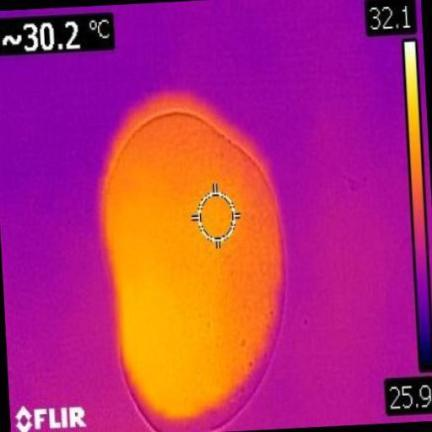mango: (102, 106, 283, 432)
